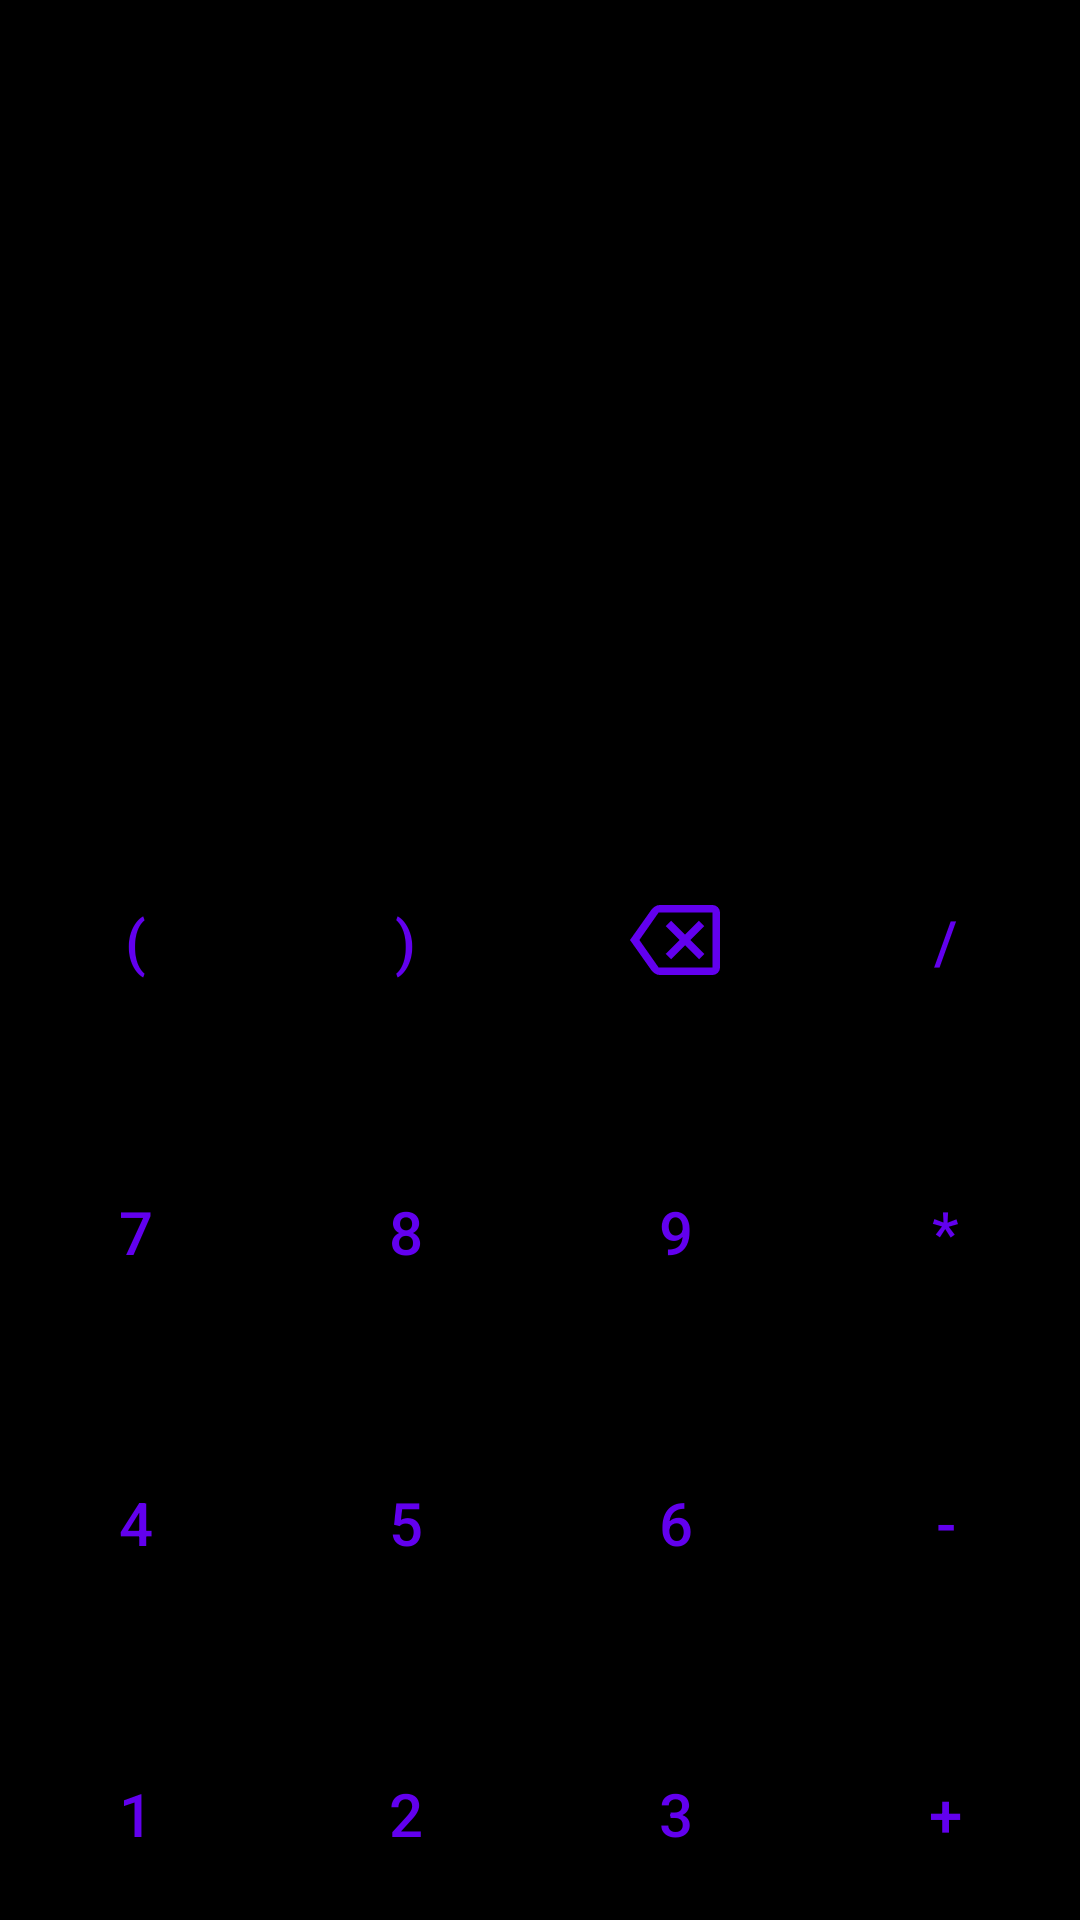

Named icons in this screenshot (1080px×1920px) and their bounding boxes, (x1, y1, x2, y2):
backspace: (630, 905, 720, 975)
